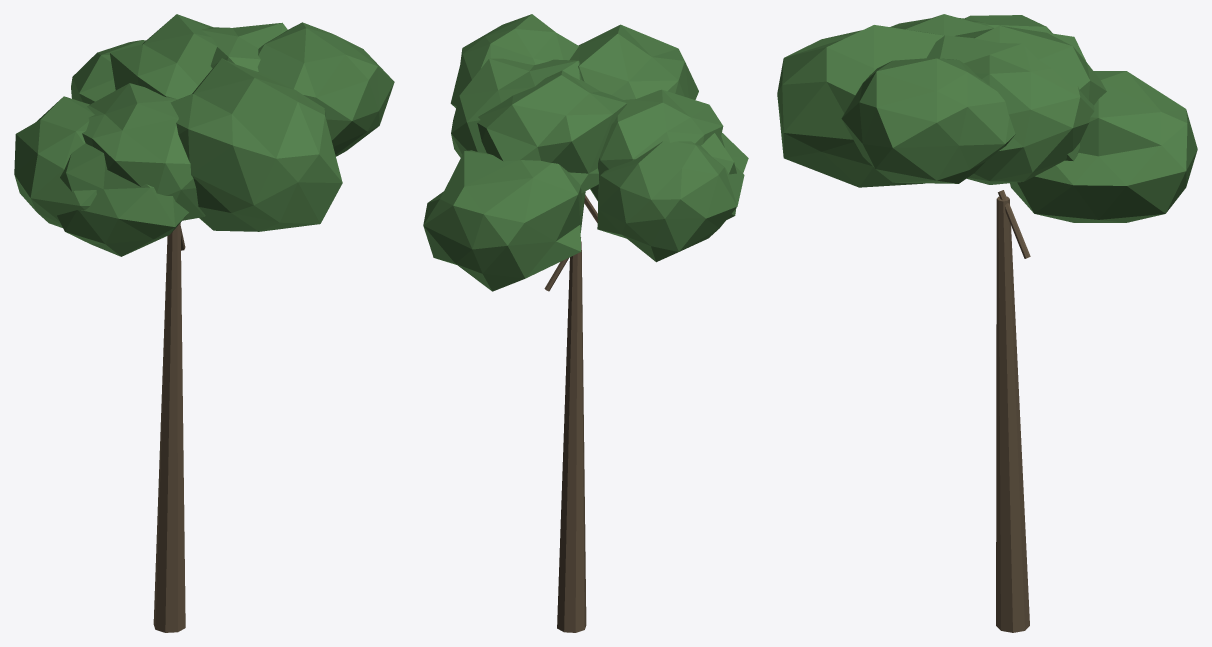
File: tree-park.glb
3 views of the same model, side by side, from view 1: azimuth 30°, elevation 25°; view 2: azimuth 150°, elevation 25°; view 3: azimuth 270°, elevation 25° (orthographic). The views are drawn at different scales.
Parts seen in each view (by area): view 1: Foliage; view 2: Foliage; view 3: Foliage.
Boxes of the visible parts, x1,y1,x2,y2 form: Foliage: (14,14,394,632); Foliage: (423,14,748,632); Foliage: (777,14,1197,632).
Size of the model in its own units: 5.92 by 10.4 by 6.43.
